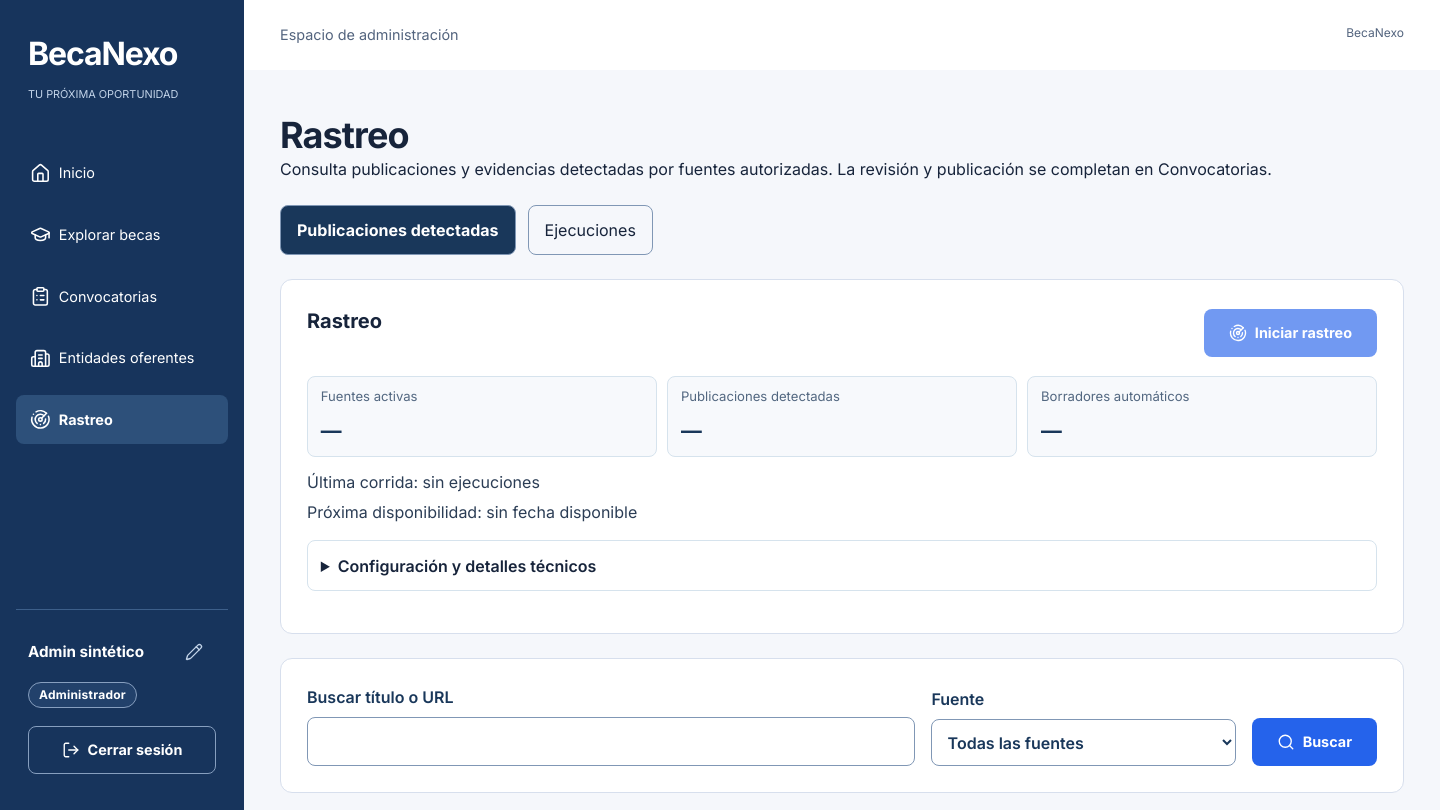
limpia los filtros de publicaciones y mantiene el acceso al detalle
The image size is (1440, 810).
Type "beca" into the search field labelled "Buscar título o URL" at (611, 742), box [307, 717, 915, 766]
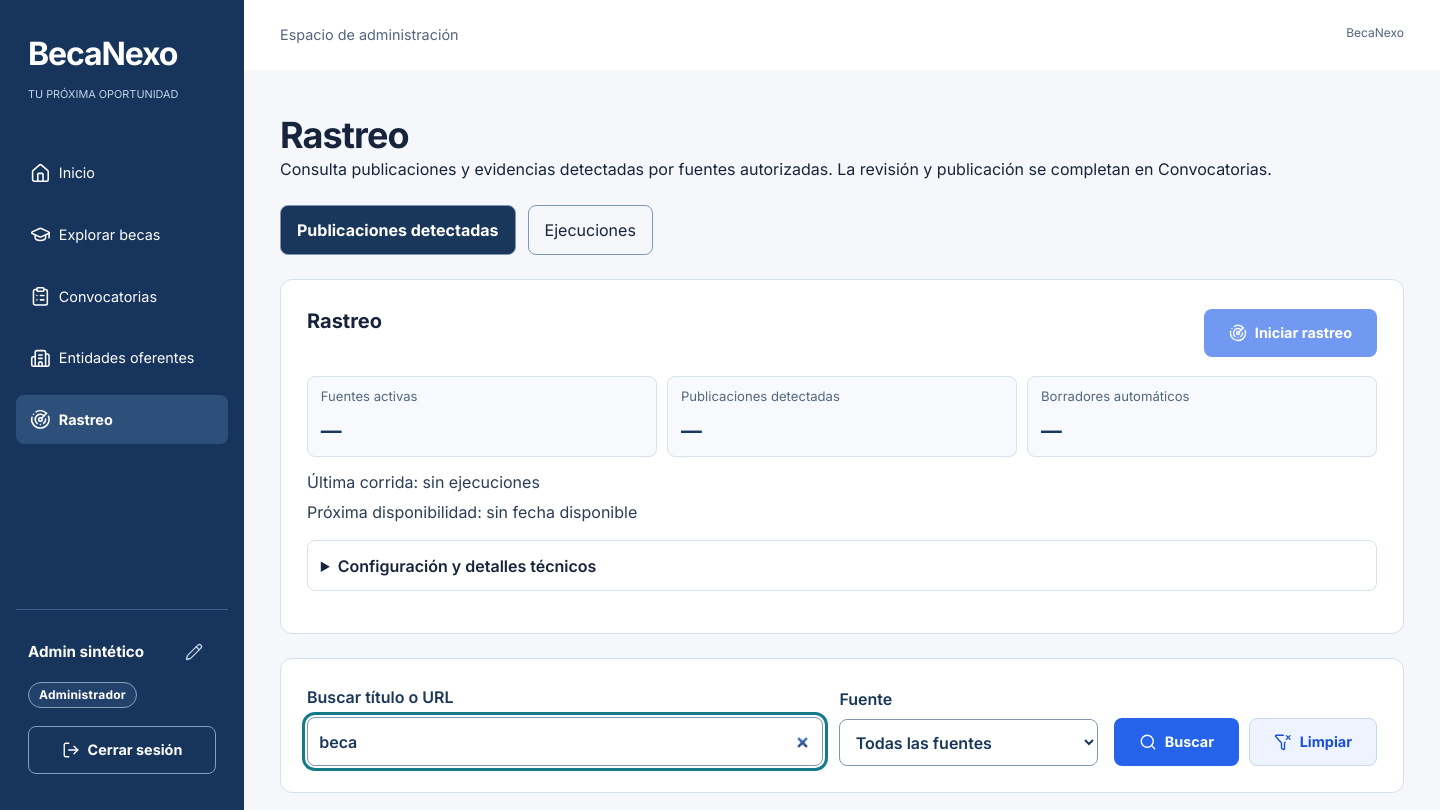
Select "SIAU prueba" in the dropdown labelled "Fuente" at (968, 743), box [839, 719, 1098, 766]
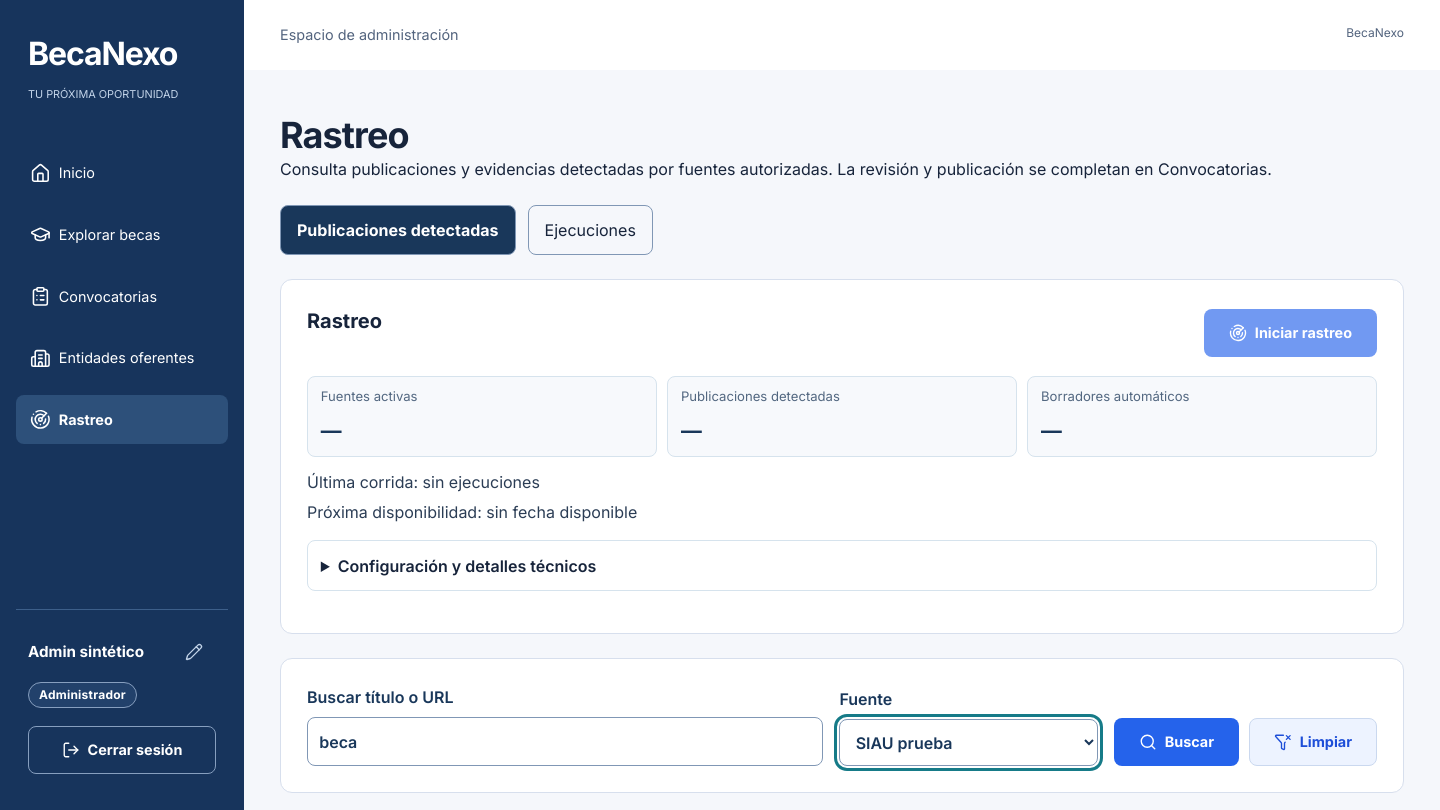
Click the button "Buscar" at (1176, 742), box [1114, 718, 1239, 766]
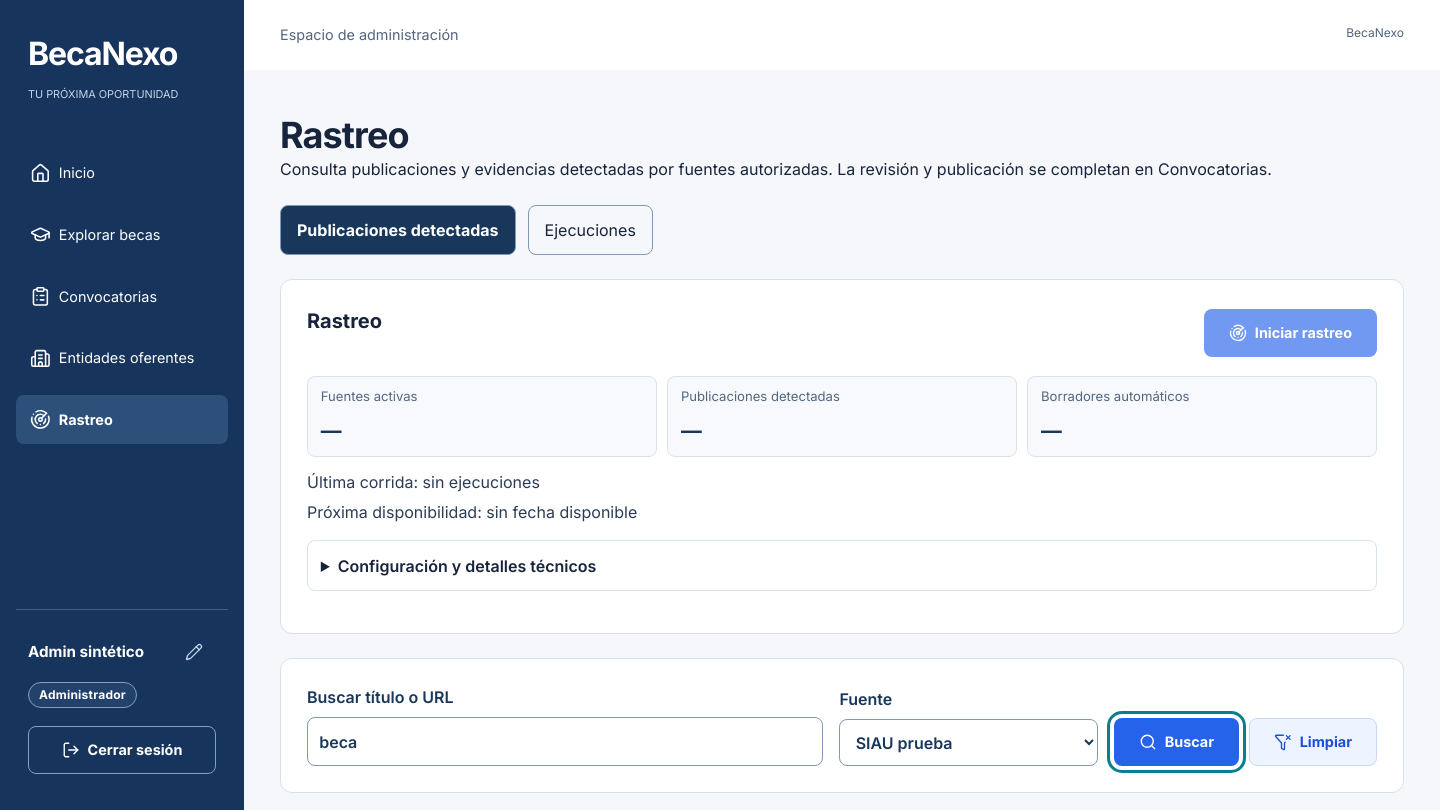
Click the button "Limpiar" at (1313, 742), box [1249, 718, 1377, 766]
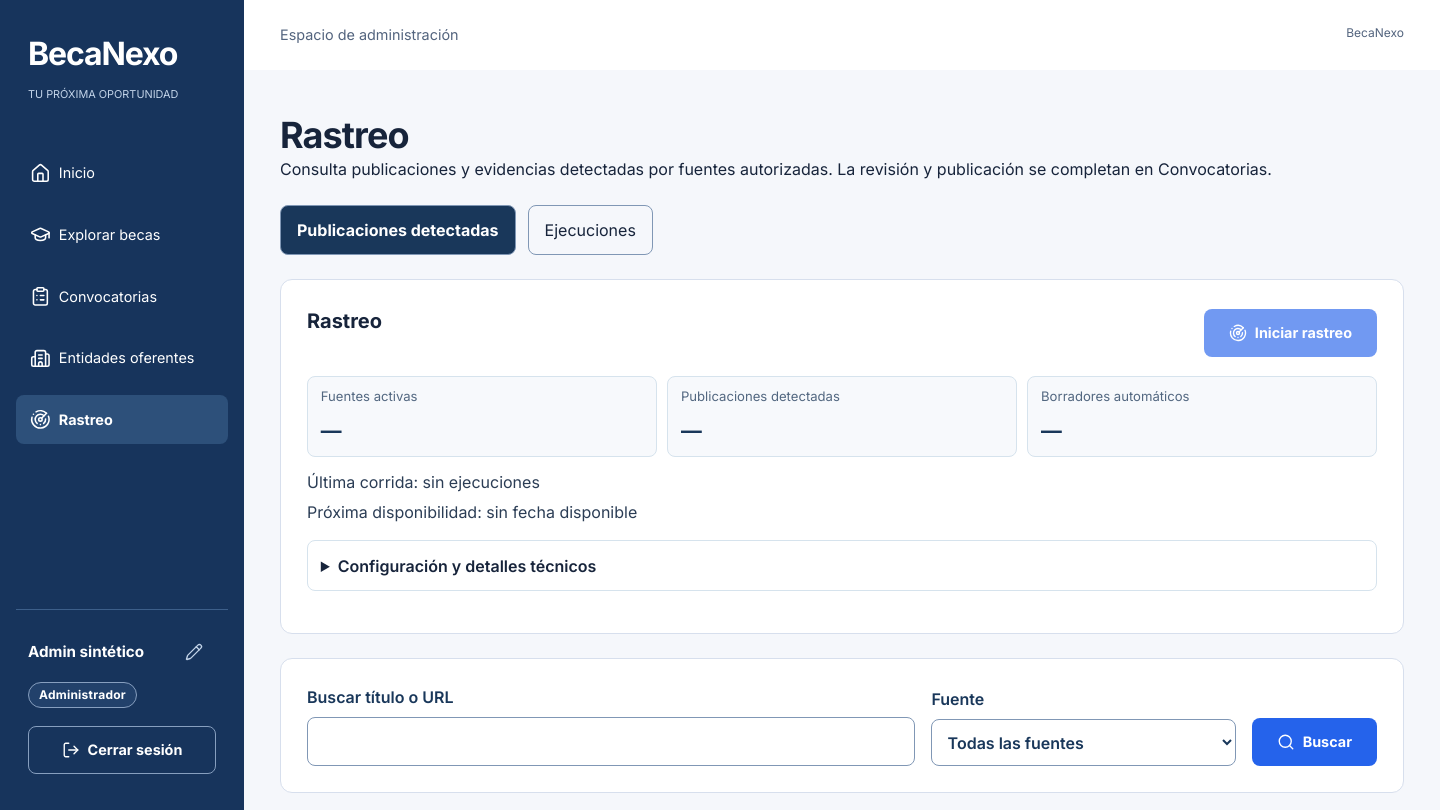
Check: the search field labelled "Buscar título o URL" is empty, box [307, 717, 915, 766]
